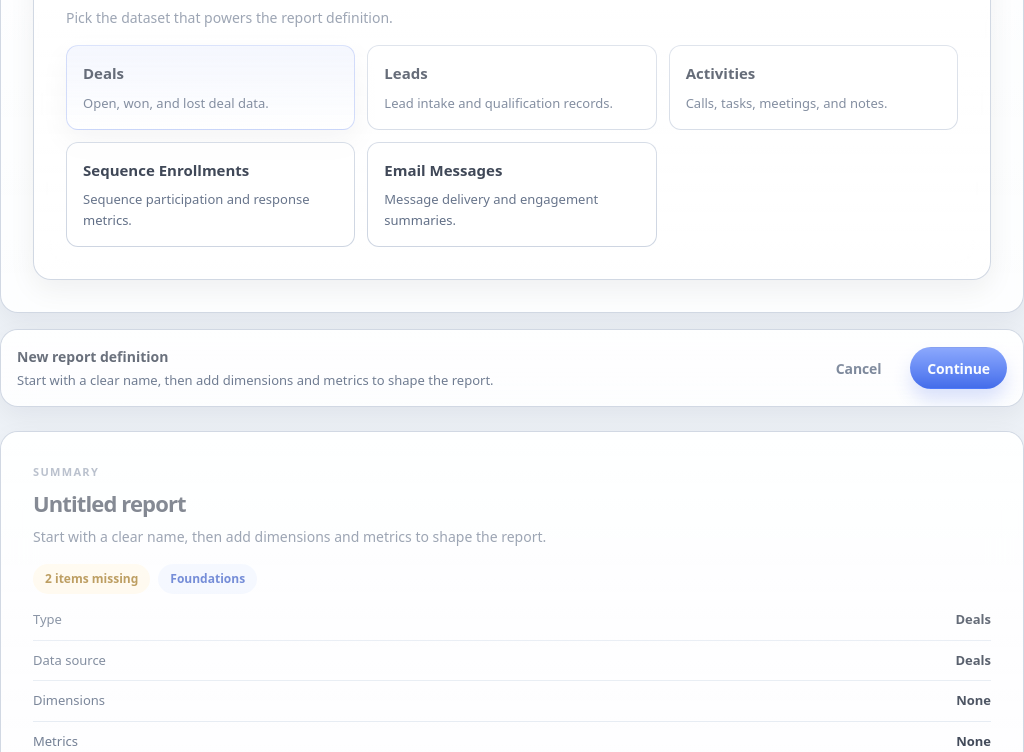
it: ReportBuilder › blocks moving past basics when the report name is missing
(page scrolled)
Click the button "Continue": (959, 368) [910,347,1007,389]
(page scrolled)
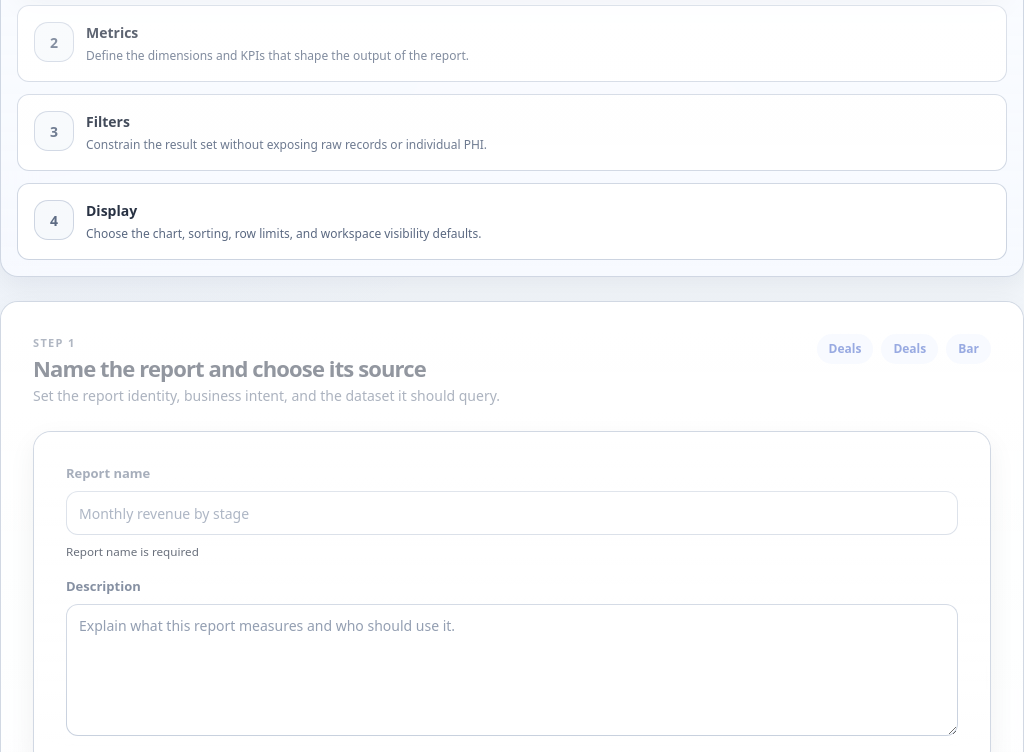
Expected: the heading "Name the report and choose its source" is shown, [33,353,426,383]
Now the text "Report name is required" is shown, box [66,544,199,560]
